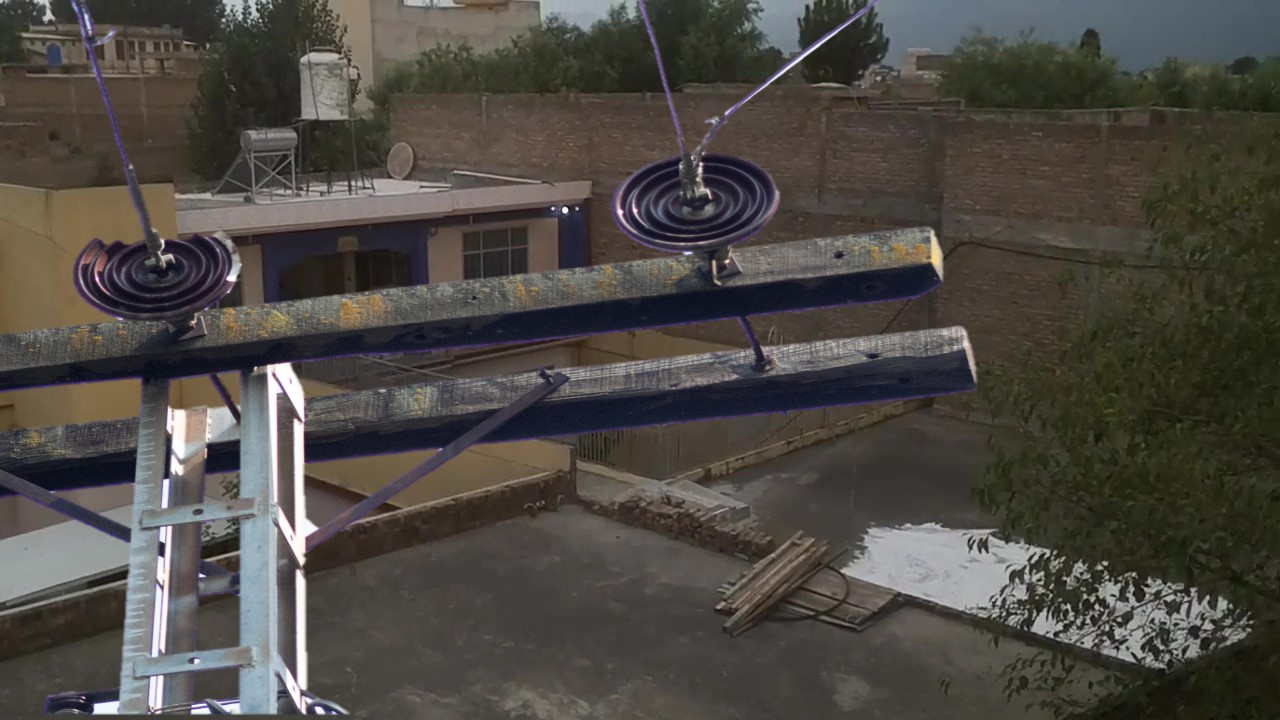defect_disc: (70, 225, 256, 321)
insulator_disc: (609, 149, 785, 251)
